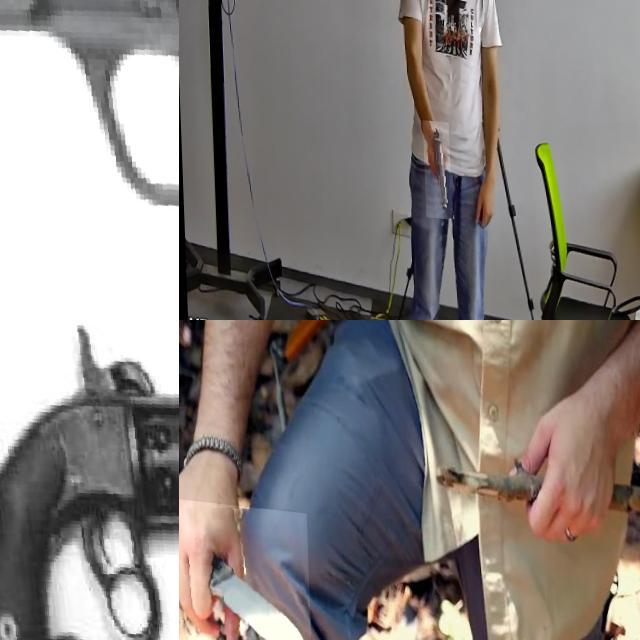-: (179, 494, 308, 640)
gun-knife-thesis - v11 Yolov5 augmented: (0, 0, 179, 320), (0, 320, 179, 640), (419, 114, 448, 213)
